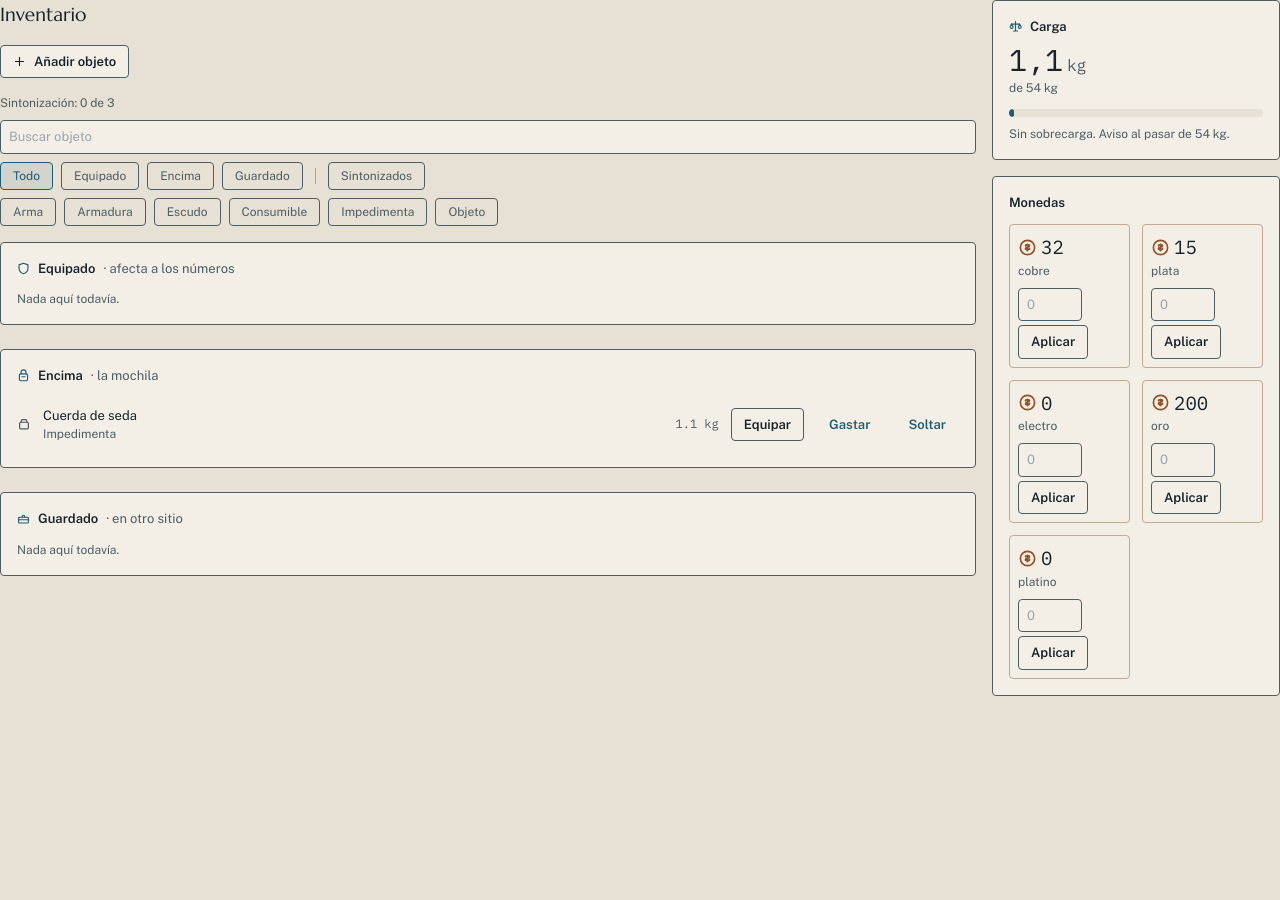
Test: PaginaDeInventario › pulsar «Soltar» no borra nada todavía: enseña la confirmación en pantalla
Click the button with aria-label "Soltar Cuerda de seda" at (927, 424), box [895,408,959,441]
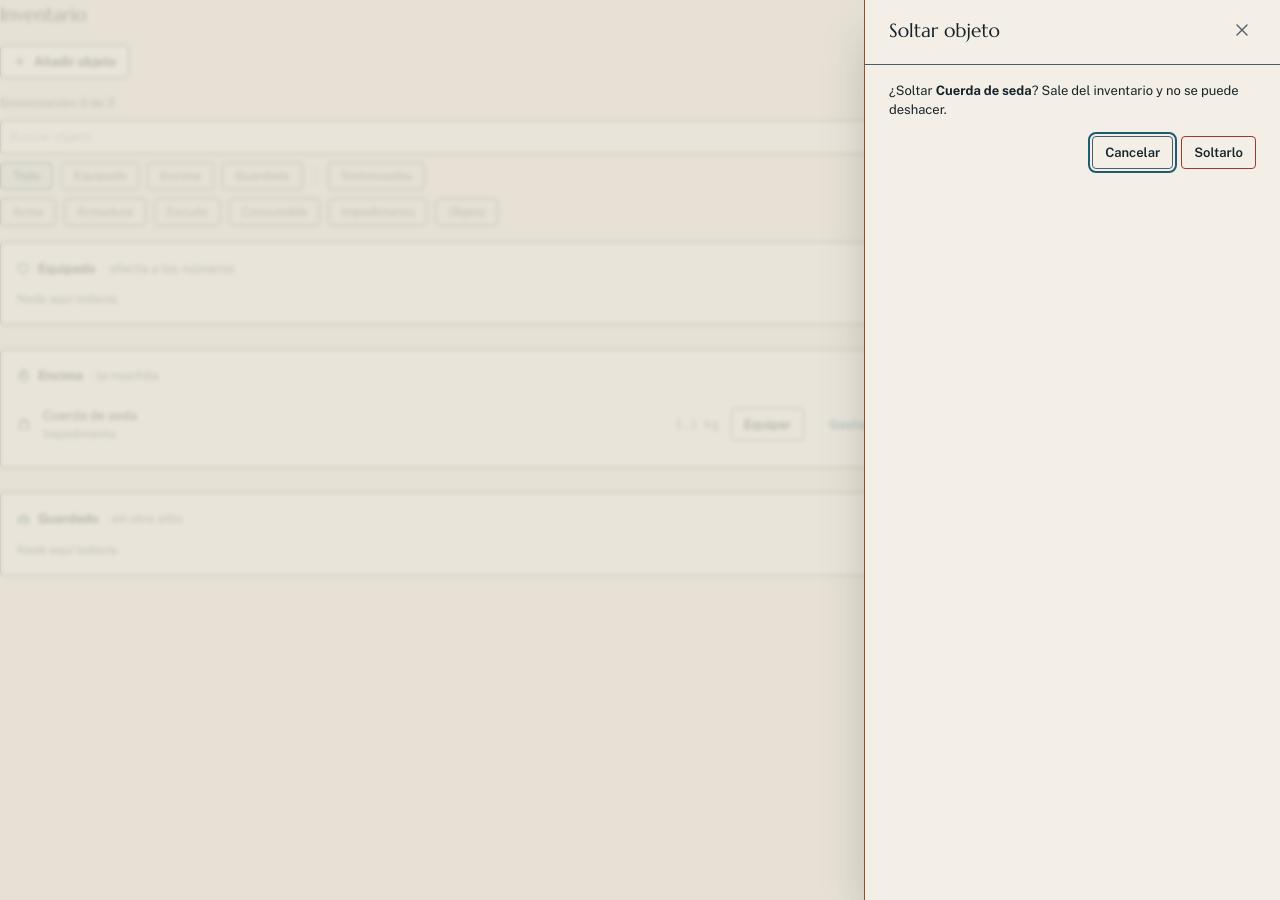
Check: the text "Cuerda de seda" is shown, box [936,83,1032,98]
